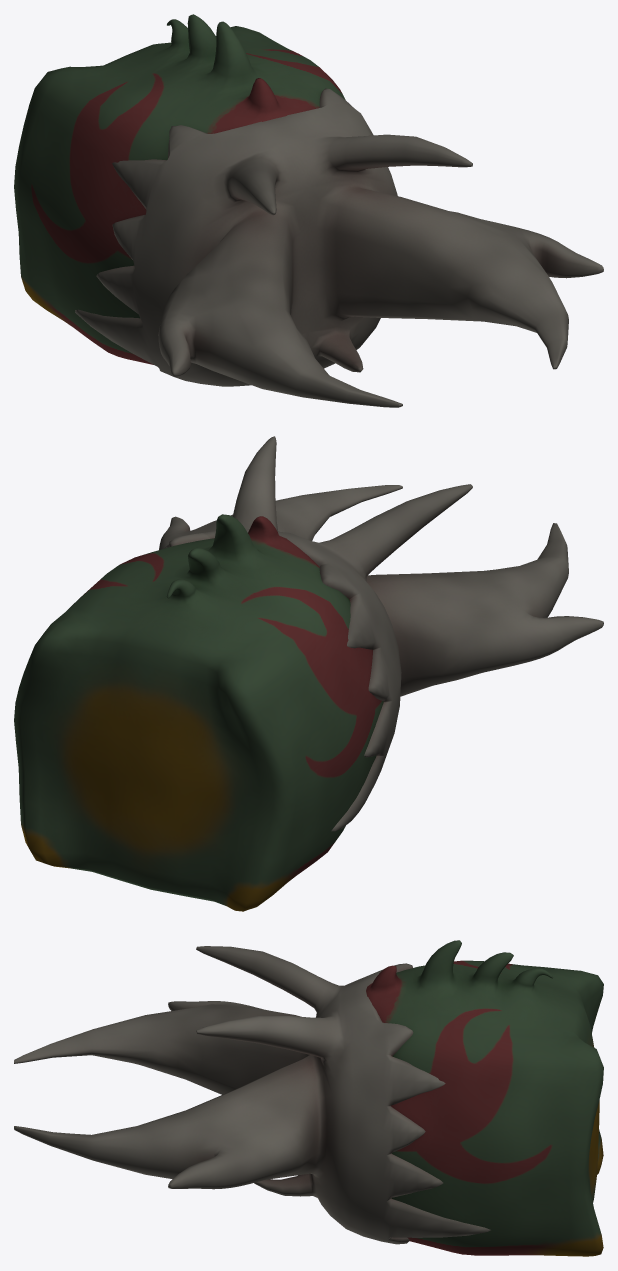
File: meanderHead00.fbx
3 renders of one model, top to bottom at view 1: azimuth 30°, elevation 25°; view 2: azimuth 150°, elevation 25°; view 3: azimuth 270°, elevation 25°, orthographic. The views are drawn at different scales.
Visible parts, largest first — view 1: horn, head; view 2: head, horn; view 3: horn, head.
Part boxes in pixels (box(x1,y1,x2,y2)): horn: box(75, 88, 603, 407); head: box(14, 14, 345, 364); head: box(14, 514, 383, 911); horn: box(159, 436, 603, 831); horn: box(14, 946, 490, 1244); head: box(366, 940, 603, 1256).
Bounding box in the file's own units: 107 × 76.53 × 147.
Materials: 3 (3 with a texture image).
